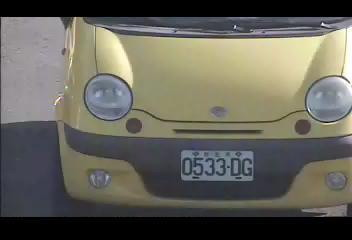plate: (179, 149, 255, 182)
